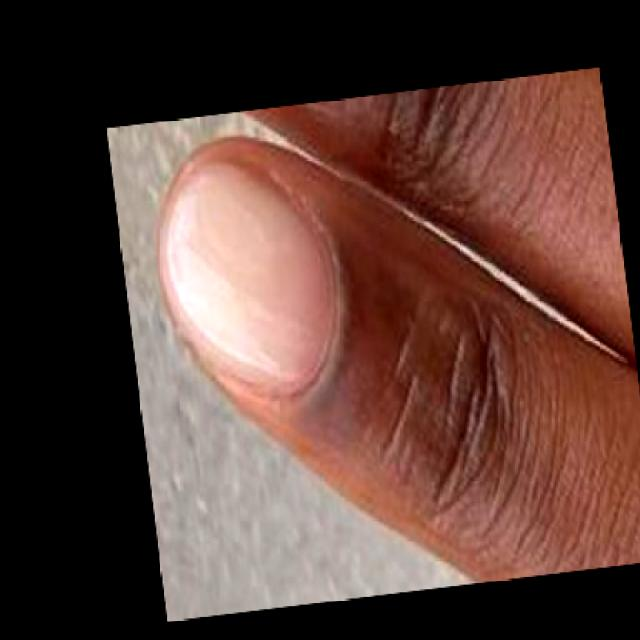Nail: (161, 157, 333, 396)
